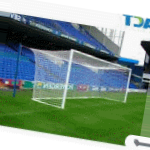goals: (32, 46, 134, 113)
